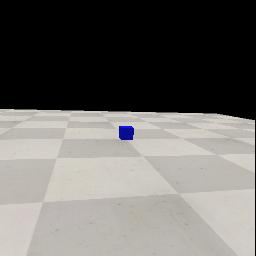box: (119, 126, 134, 140)
